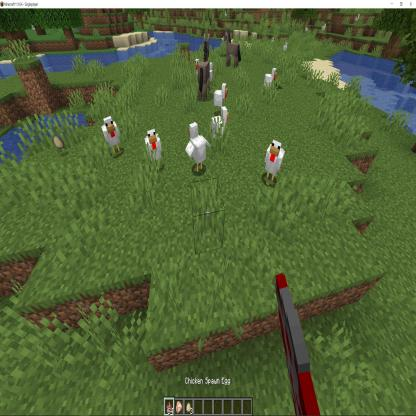minecraft-pigs: (198, 85, 252, 180)
